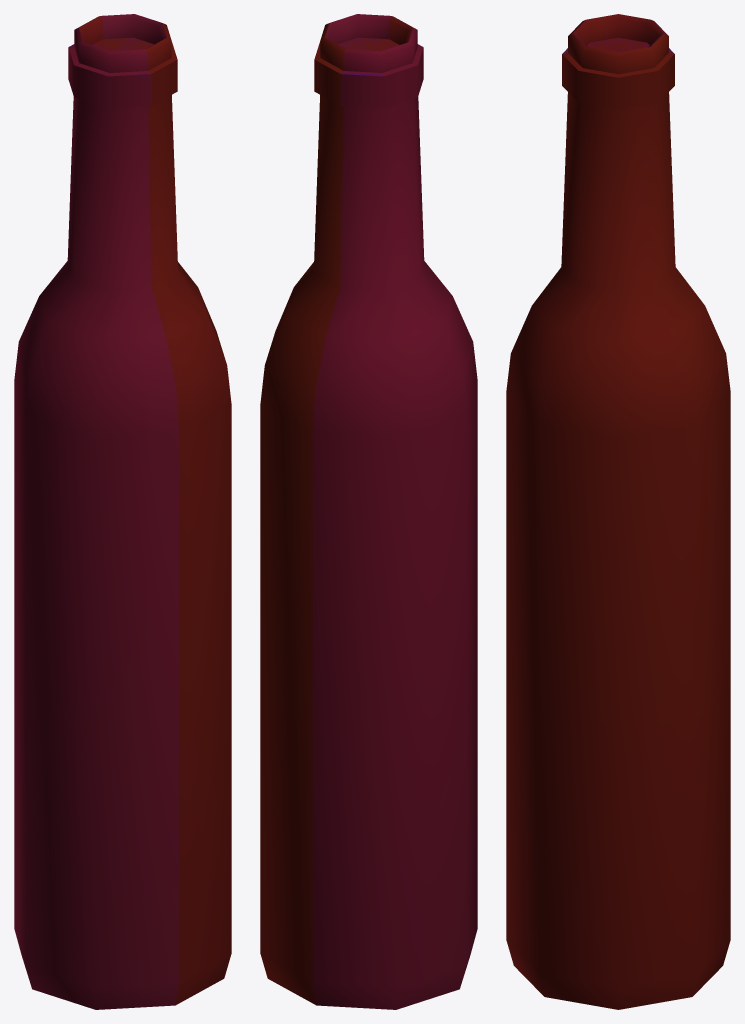
File: Garrafas.fbx
The picture shows the model from 3 angles, left to right: view 1: azimuth 30°, elevation 25°; view 2: azimuth 150°, elevation 25°; view 3: azimuth 270°, elevation 25°; orthographic projection.
Visible parts, largest first — view 1: GlassBottleR, GlassBottleO; view 2: GlassBottleR, GlassBottleO; view 3: GlassBottleO.
Part boxes in pixels (<box>): GlassBottleR: <box>14,14,179,1009</box>; GlassBottleO: <box>79,16,231,1005</box>; GlassBottleR: <box>312,14,477,1009</box>; GlassBottleO: <box>260,16,412,1005</box>; GlassBottleO: <box>506,14,730,1009</box>.
Bounding box in the file's own units: 92.65 × 425 × 92.64.
